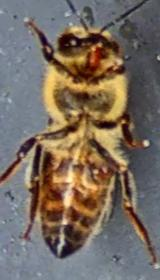varroa_mite: (85, 156, 116, 184)
